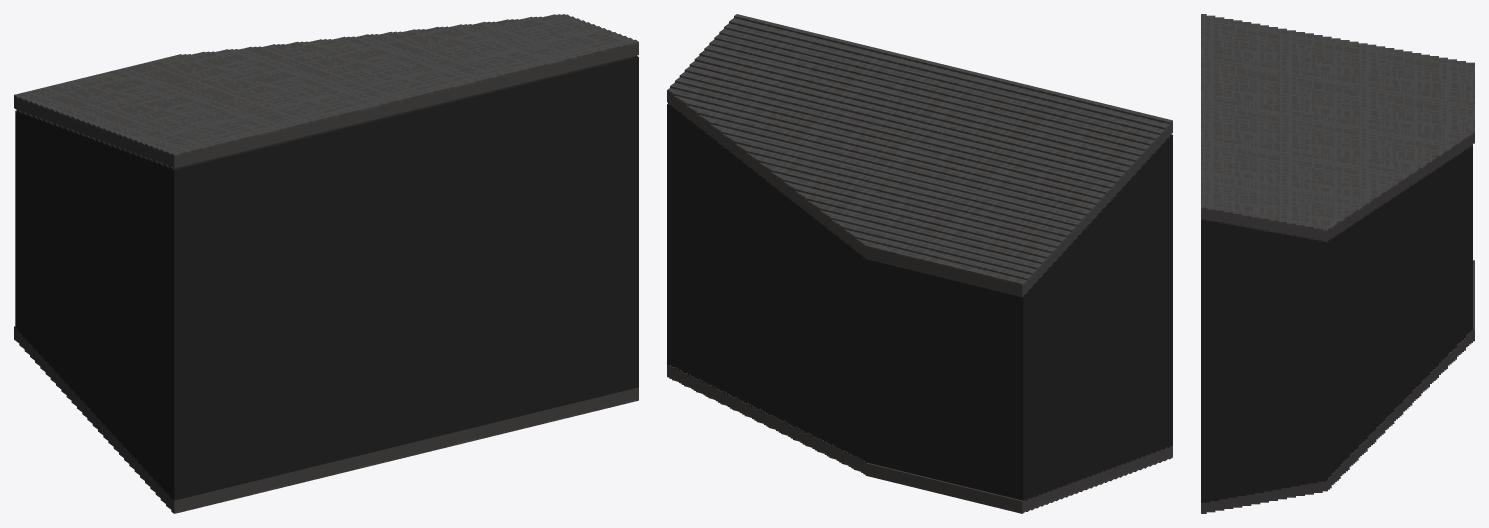
File: Space ship-12.obj
The picture shows the model from 3 angles, left to right: view 1: azimuth 30°, elevation 25°; view 2: azimuth 150°, elevation 25°; view 3: azimuth 270°, elevation 25°; orthographic projection. The views are drawn at different scales.
Bounding box in the file's own units: 25.6 × 18.9 × 15.3.
Materials: 1 (1 with a texture image).
